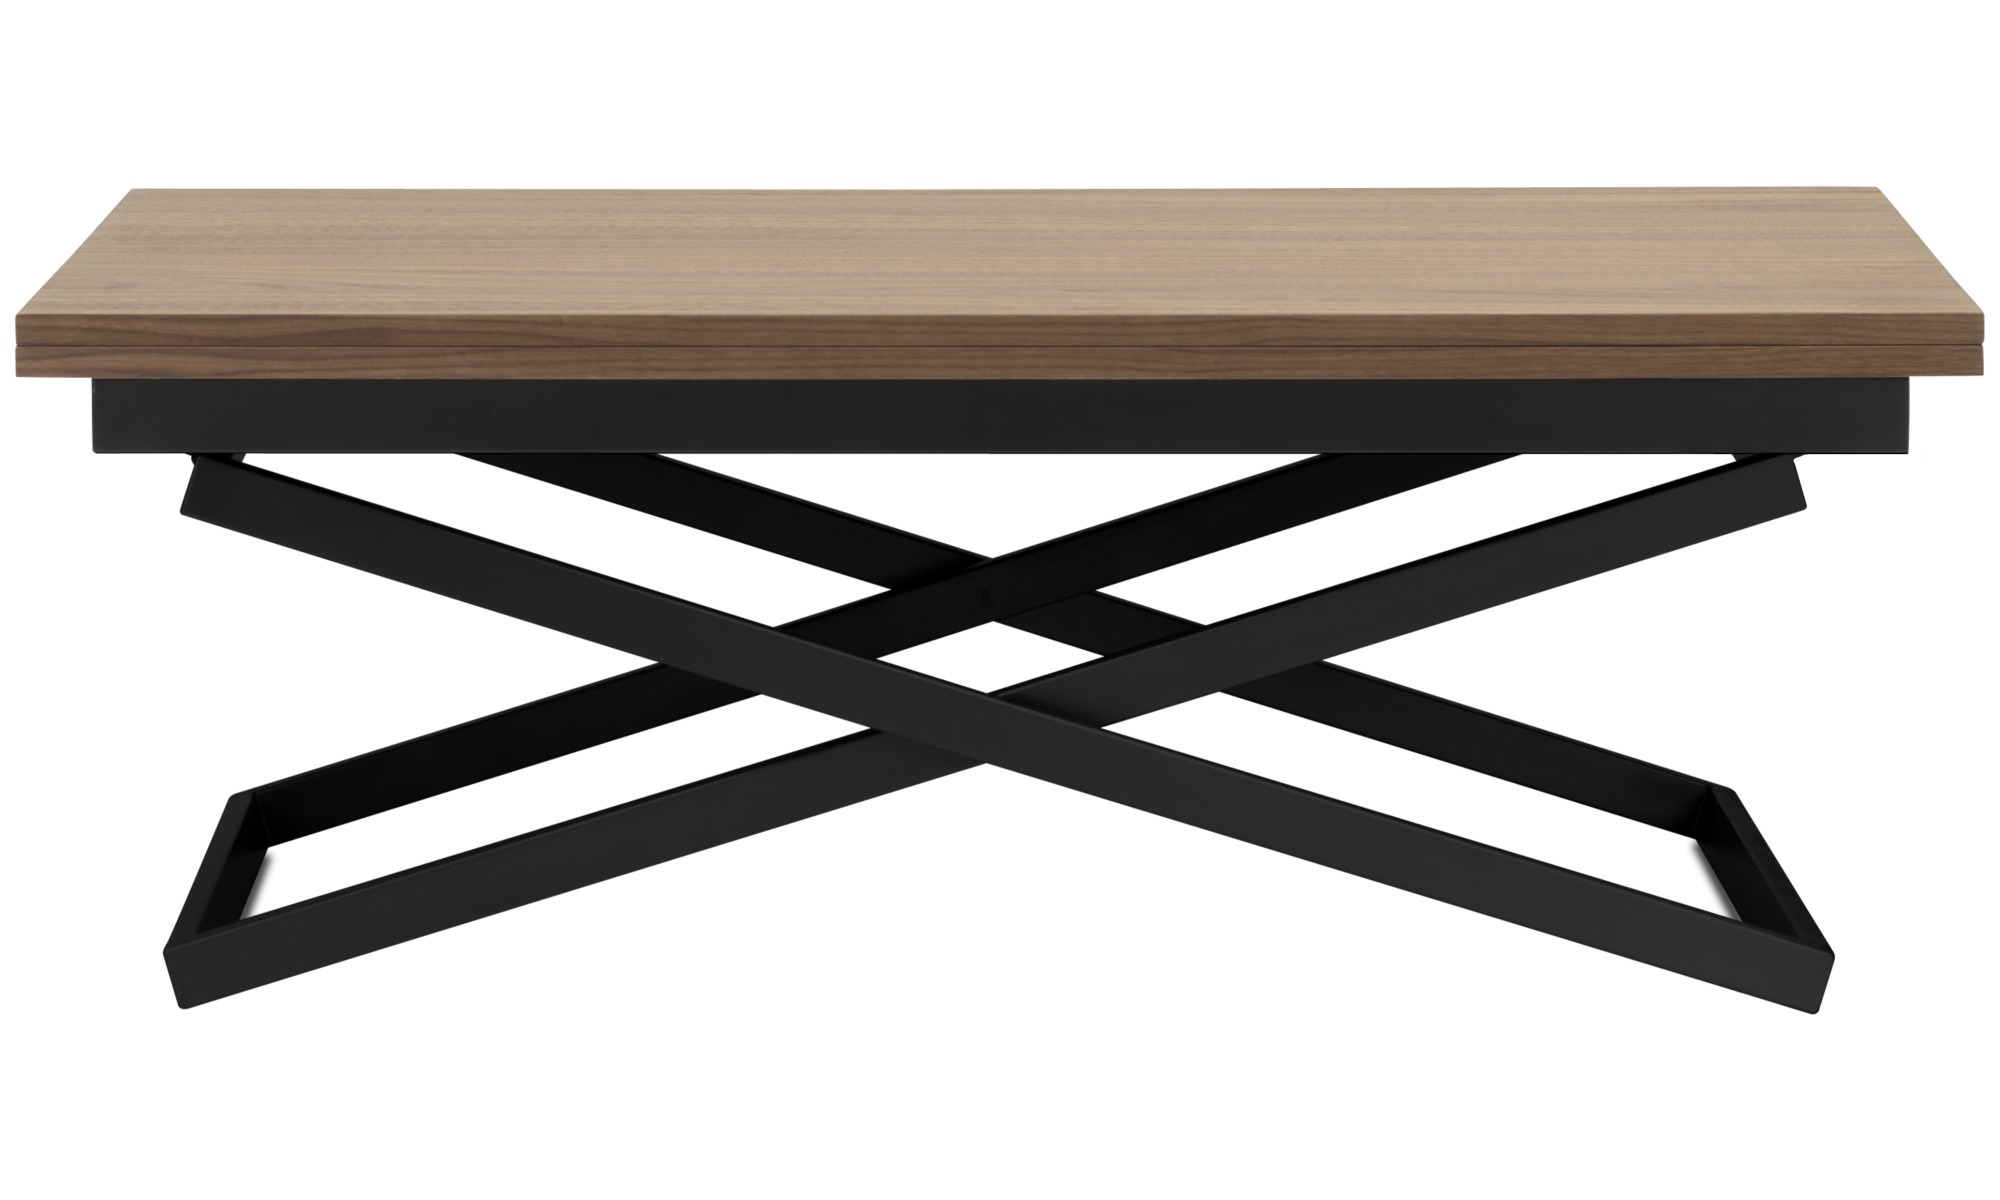meja: (10, 169, 1979, 1104)
